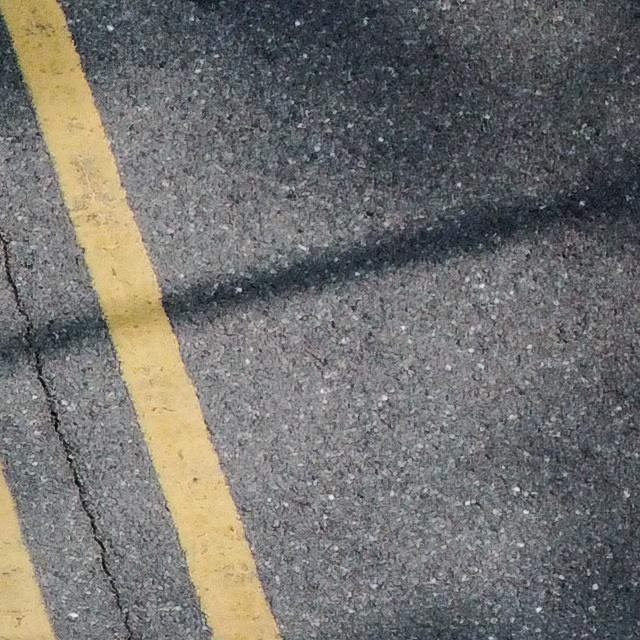LongitudinalCrack: (1, 233, 132, 637)
